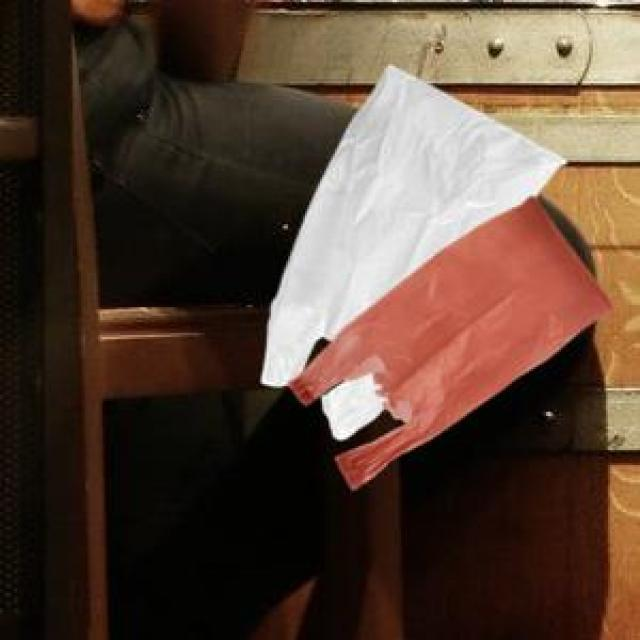waste: (261, 68, 611, 489)
